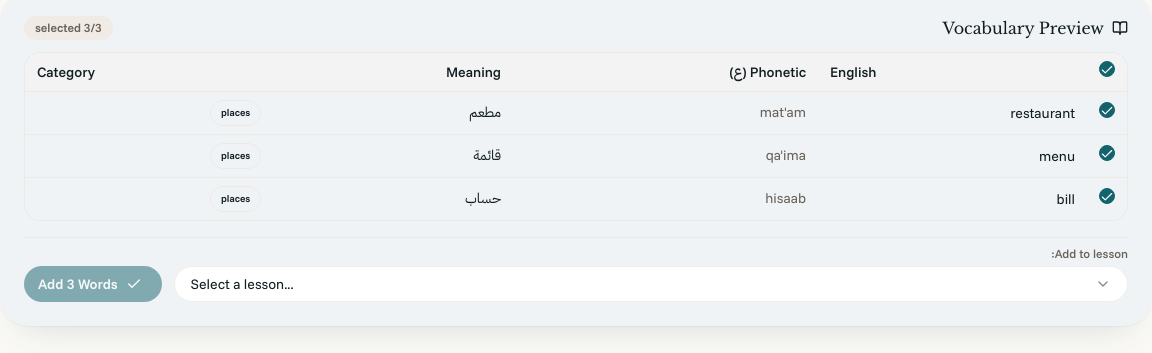
Scenario: choosing what to keep › can be toggled from anywhere in the row
Click the row "menu qa'ima قائمة places" at (576, 156), box x1=25 y1=134 x2=1127 y2=178
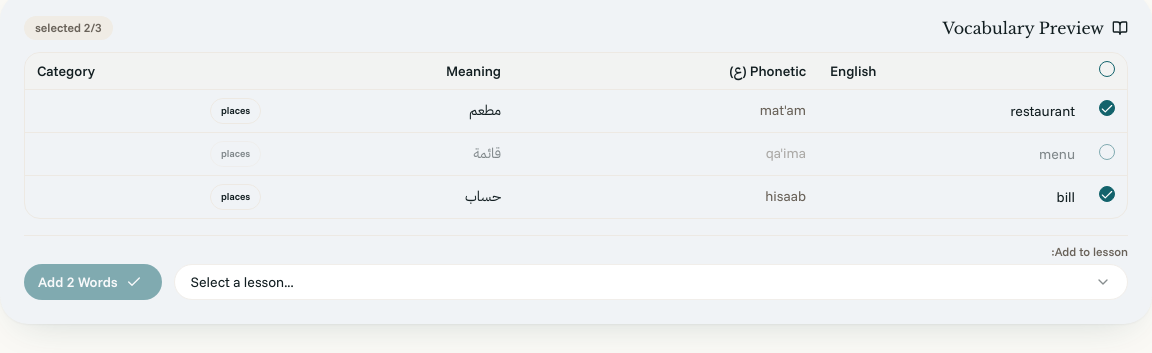
Expected: the text "2/3 selected" is shown, x1=24 y1=16 x2=113 y2=40
